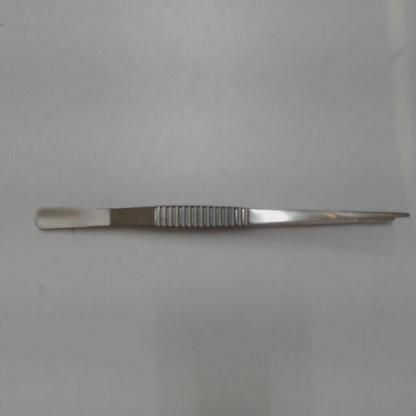DeBakey Dissector: (31, 177, 412, 281)
